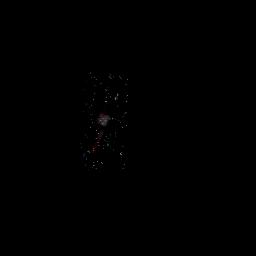boat: (80, 71, 129, 171)
